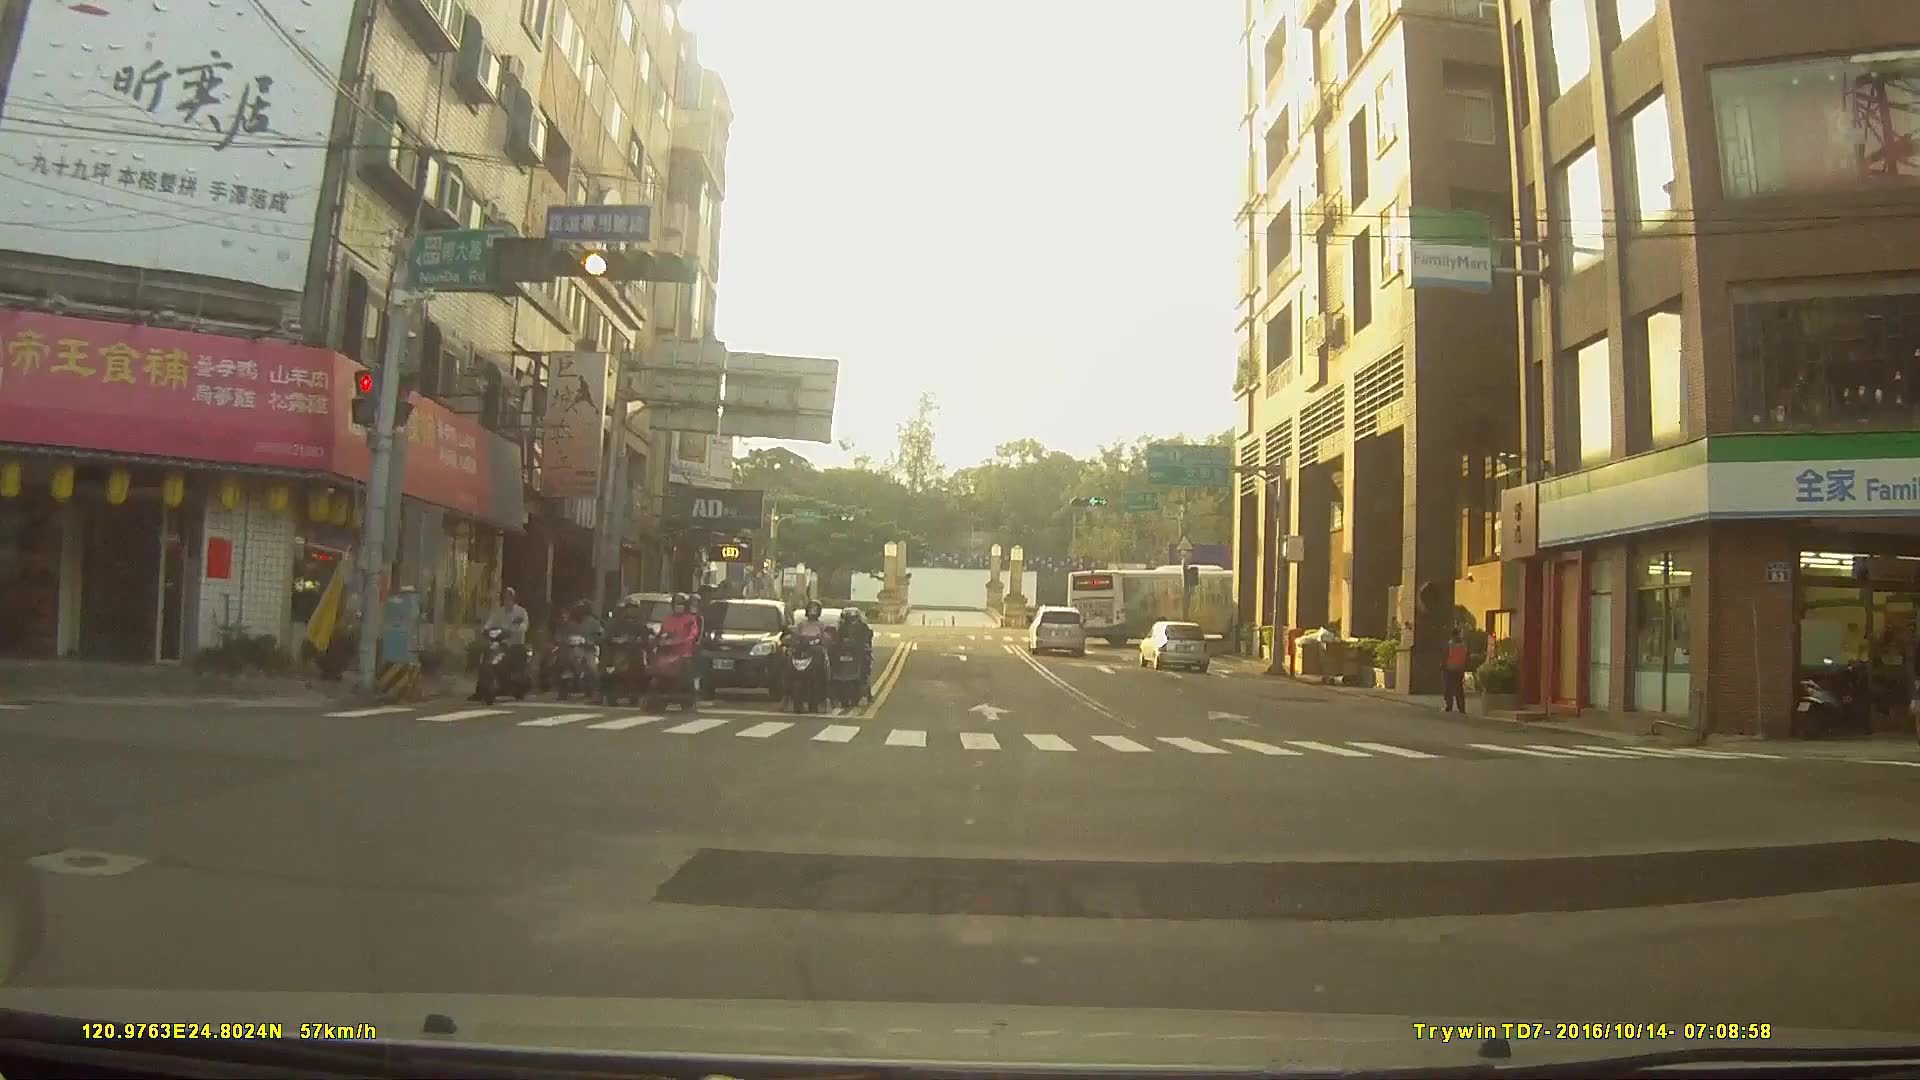pedestrian: (1440, 630, 1472, 718)
rider: (640, 595, 709, 723), (473, 592, 538, 709), (786, 606, 839, 718), (598, 599, 650, 708), (549, 602, 600, 706), (826, 615, 874, 713)
vehicle: (1065, 564, 1256, 643), (670, 595, 791, 701), (1137, 618, 1211, 671), (1026, 604, 1087, 655)
